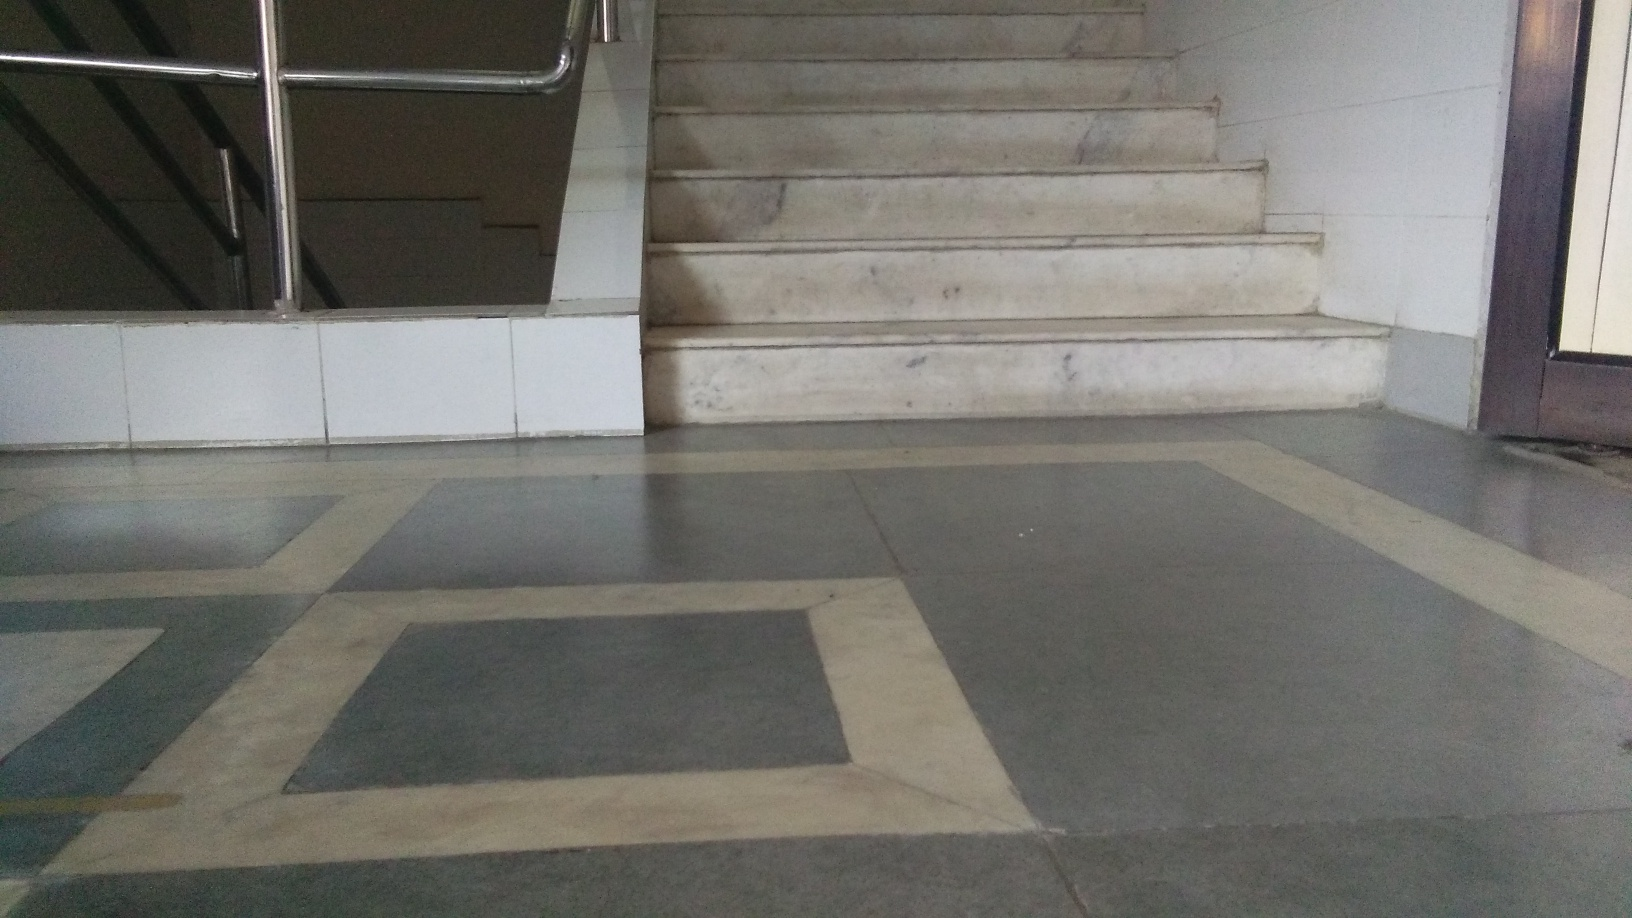stairs_up: (630, 1, 1400, 457)
